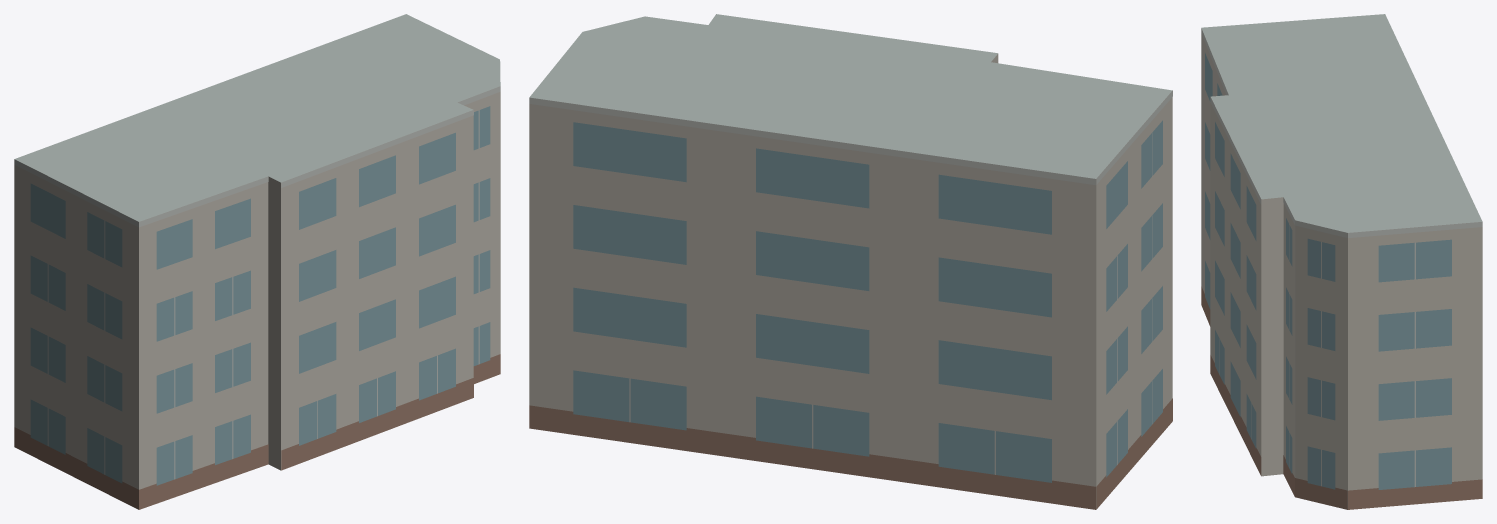
The model's file is survey-upis-32740413.glb.
The picture shows the model from 3 angles, left to right: view 1: azimuth 30°, elevation 25°; view 2: azimuth 150°, elevation 25°; view 3: azimuth 270°, elevation 25°; orthographic projection. The views are drawn at different scales.
Visible parts, largest first — view 1: survey-upis-32740413.tmp; view 2: survey-upis-32740413.tmp; view 3: survey-upis-32740413.tmp.
Boxes of the visible parts, x1,y1,x2,y2 form: survey-upis-32740413.tmp: (14,14,500,509); survey-upis-32740413.tmp: (529,14,1172,509); survey-upis-32740413.tmp: (1201,14,1482,509).
Bounding box in the file's own units: 21.71 × 12.8 × 11.8.
